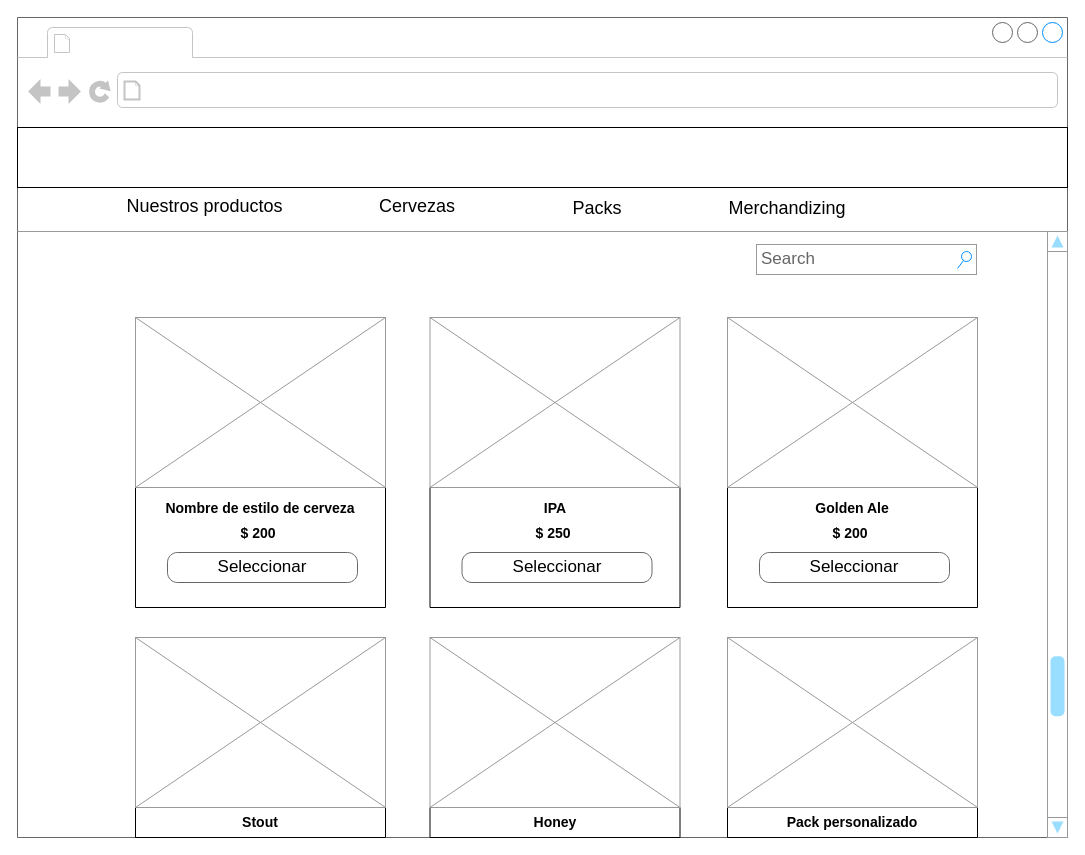
This 1085x855 diagram has some shape labels left out. The shapes that lost their labels are listed below. From the top down, each one's centre as x and y in pixels, then its label:
At point (132, 42): "CHEC".
At point (272, 90): "https://www.default.com".
At point (542, 157): "Header".
